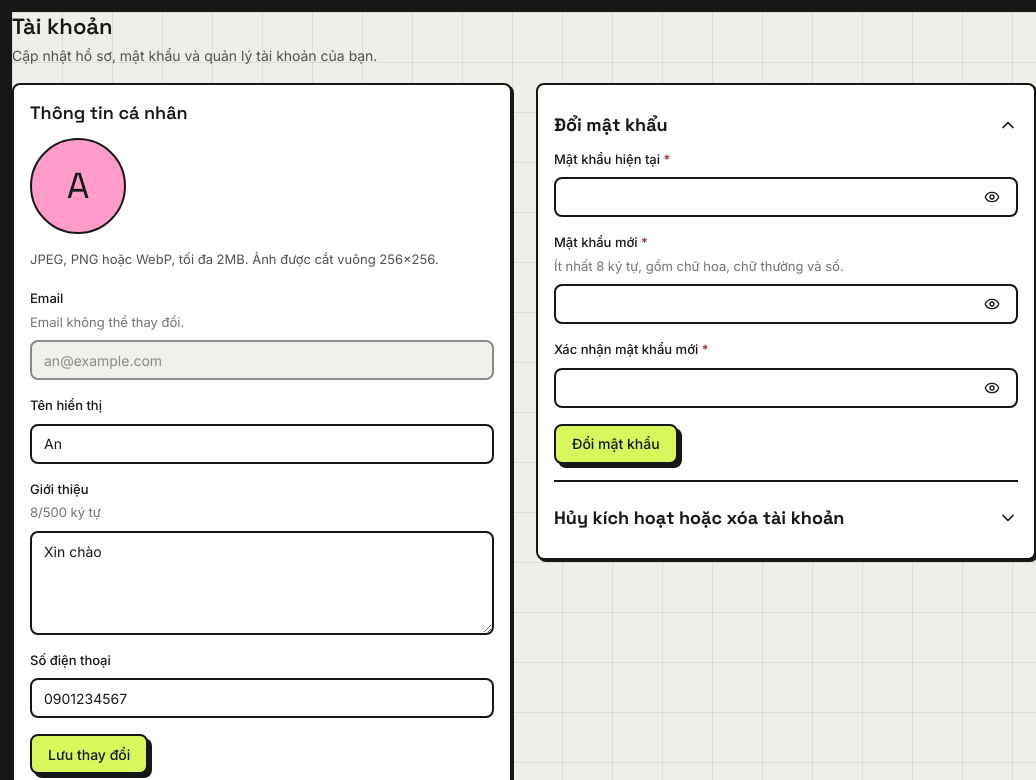
EditProfileTab form › saves the edited fields
Replace the text in the field labelled "Tên hiển thị" with "An Mới" at (262, 444), box [44, 426, 480, 462]
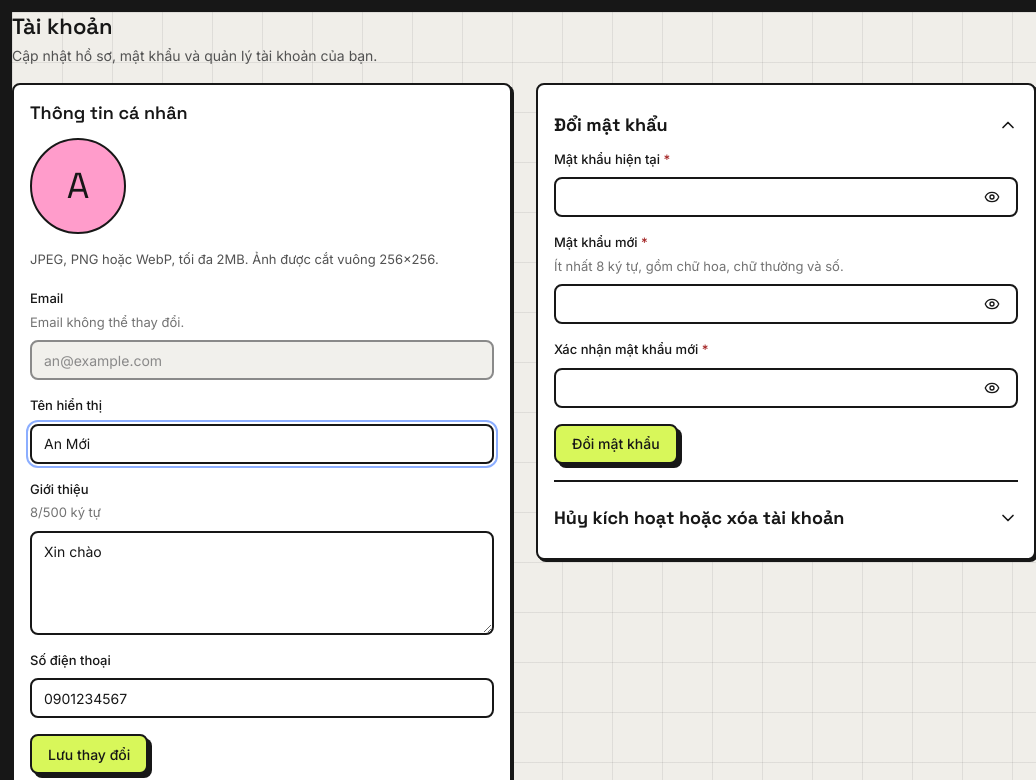
Click the button "Lưu thay đổi".
click(89, 754)  # box [30, 734, 148, 774]
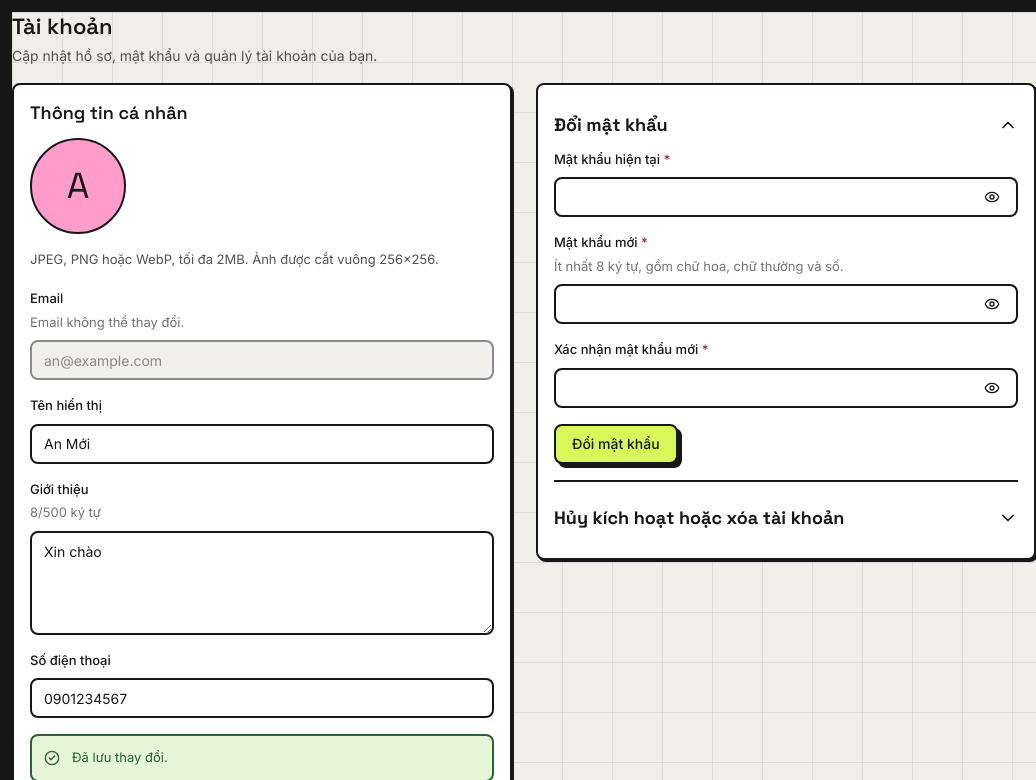
Check: the text "Đã lưu thay đổi." is shown, box [72, 749, 168, 765]
